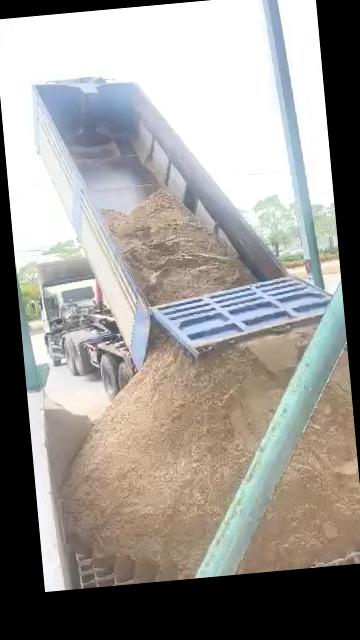sand: (64, 334, 309, 577), (241, 383, 360, 572), (103, 191, 254, 303), (44, 397, 93, 489), (331, 351, 352, 394)
